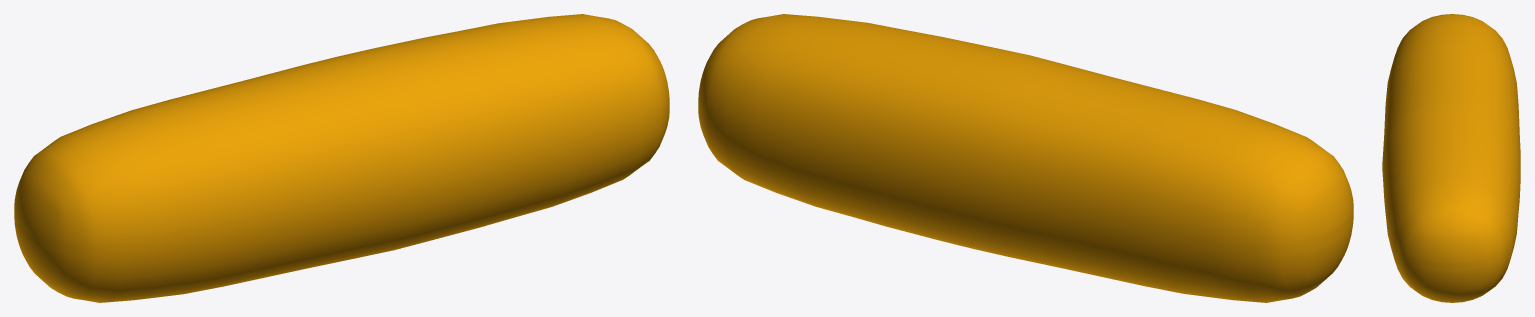
The picture shows the model from 3 angles, left to right: view 1: azimuth 30°, elevation 25°; view 2: azimuth 150°, elevation 25°; view 3: azimuth 270°, elevation 25°; orthographic projection. The views are drawn at different scales.
Visible parts, largest first — view 1: lv_2_5; view 2: lv_2_5; view 3: lv_2_5.
Part boxes in pixels (left/top/right/bottom): lv_2_5: left=14, top=14, right=669, bottom=302; lv_2_5: left=698, top=14, right=1353, bottom=302; lv_2_5: left=1382, top=14, right=1520, bottom=302.
Size of the model in its own units: 50.62 by 13.83 by 13.77.
